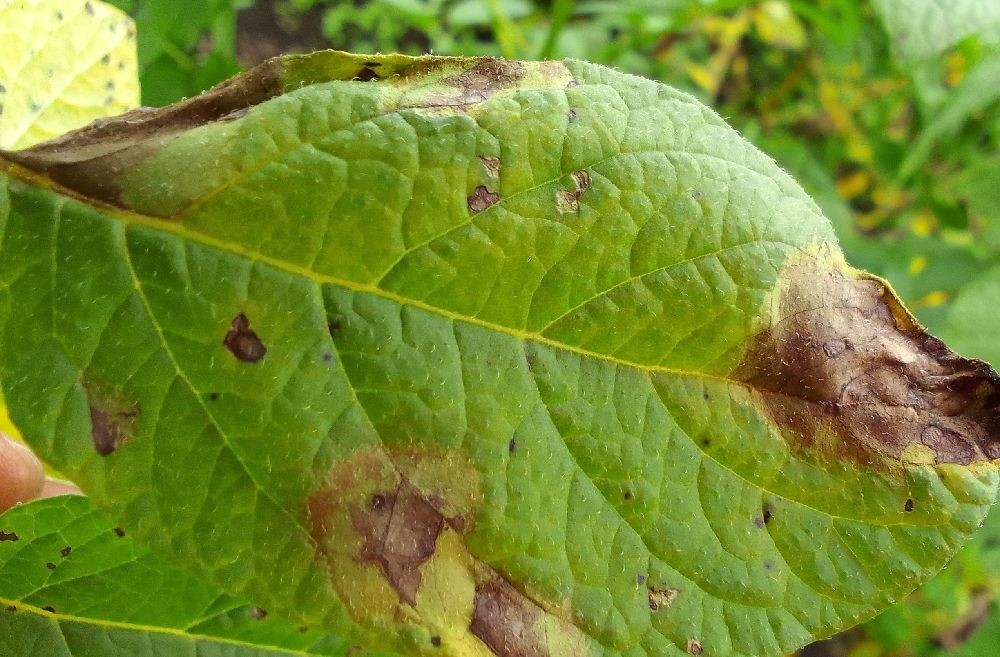late_blight: (0, 0, 586, 324), (676, 232, 1000, 553), (284, 425, 602, 656), (691, 10, 837, 150)
